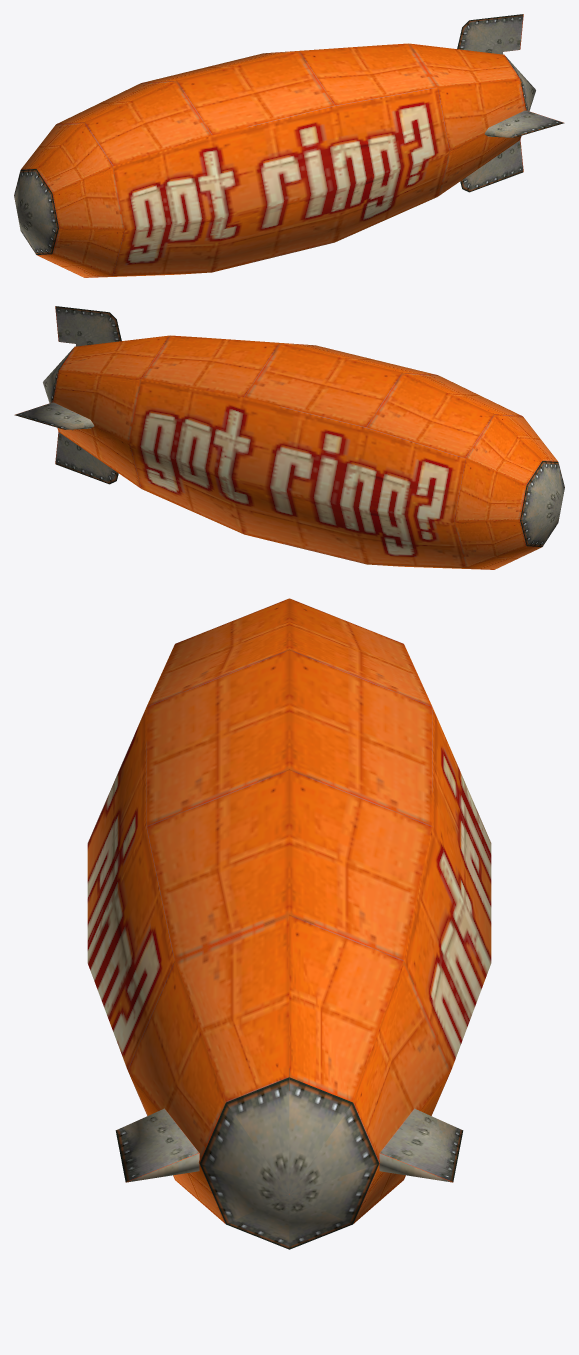
File: Blimp.obj
The picture shows the model from 3 angles, top to bottom: view 1: azimuth 30°, elevation 25°; view 2: azimuth 150°, elevation 25°; view 3: azimuth 270°, elevation 25°; orthographic projection. The views are drawn at different scales.
Bounding box in the file's own units: 491 × 175 × 166.
1 material, 1 textured.
